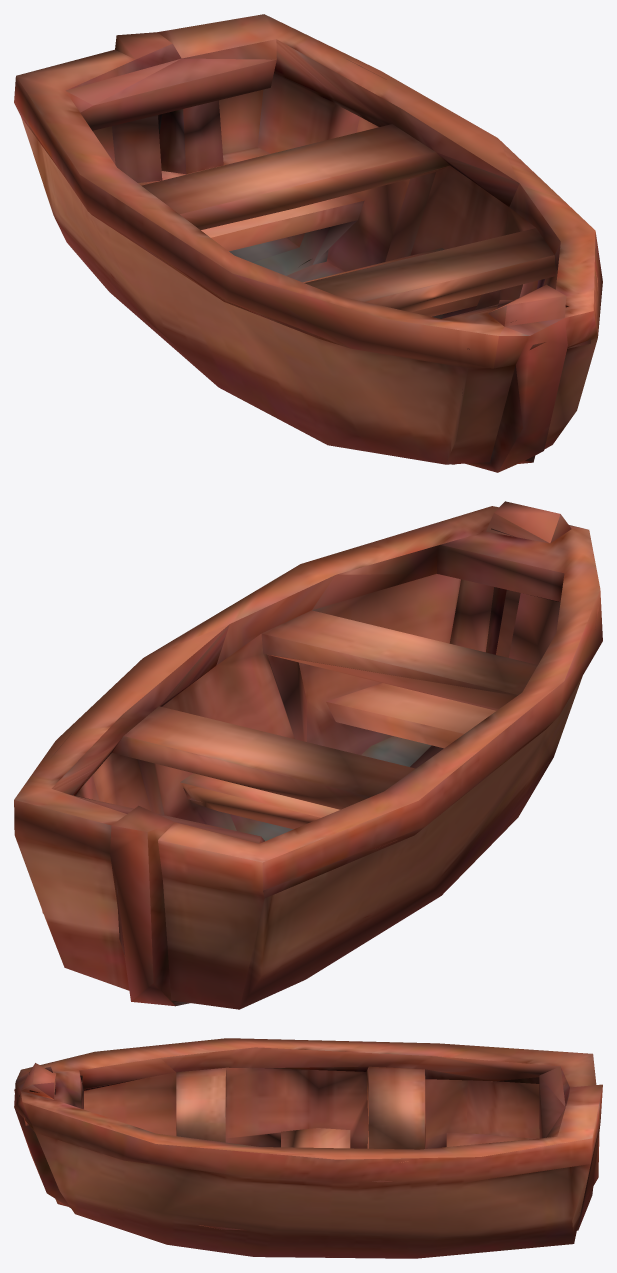
The model's file is lg-rowboat-small.glb.
The picture shows the model from 3 angles, top to bottom: view 1: azimuth 30°, elevation 25°; view 2: azimuth 150°, elevation 25°; view 3: azimuth 270°, elevation 25°; orthographic projection. The views are drawn at different scales.
Visible parts, largest first — view 1: geometry_0; view 2: geometry_0; view 3: geometry_0.
Part boxes in pixels (x1,y1,x2,y2): geometry_0: [14, 14, 602, 472]; geometry_0: [14, 501, 602, 1009]; geometry_0: [14, 1038, 602, 1258].
Size of the model in its own units: 0.4806 by 0.3104 by 1.
1 material, 1 textured.
